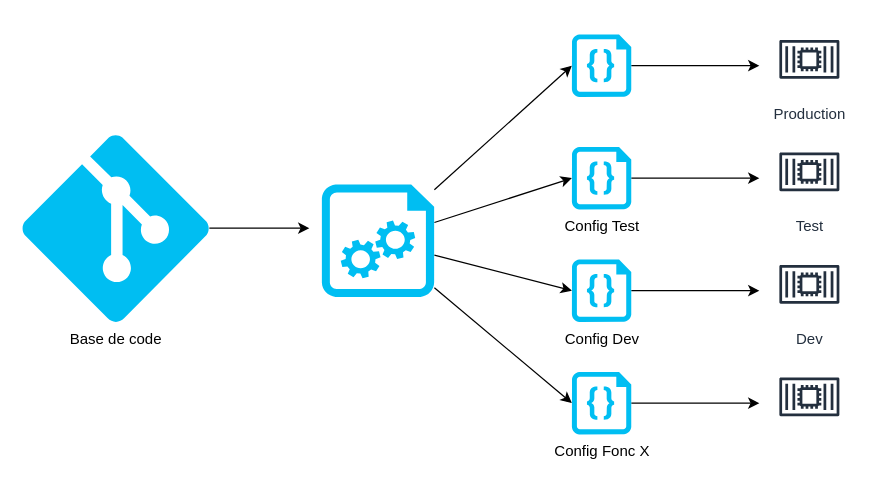
Image size: 894x483. Some labels were removed from this diagram. The centre of each missing label's shape, as x and y in pixels:
"Config Production" goes at (x=601, y=65).
"Scripts" goes at (x=377, y=240).
"Test fonctionalité X" goes at (x=809, y=396).
